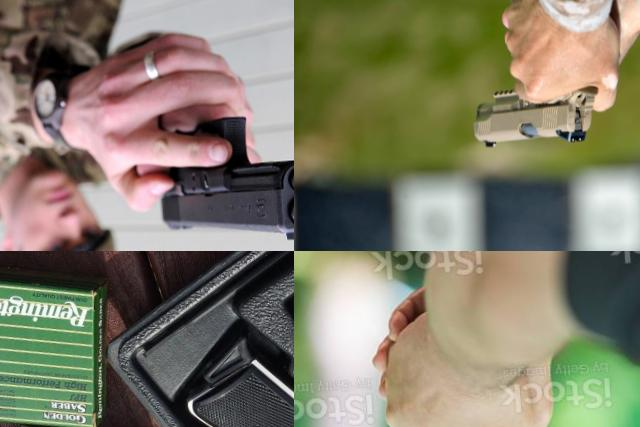handgun: (106, 16, 294, 251), (171, 298, 294, 427), (466, 61, 607, 151)
